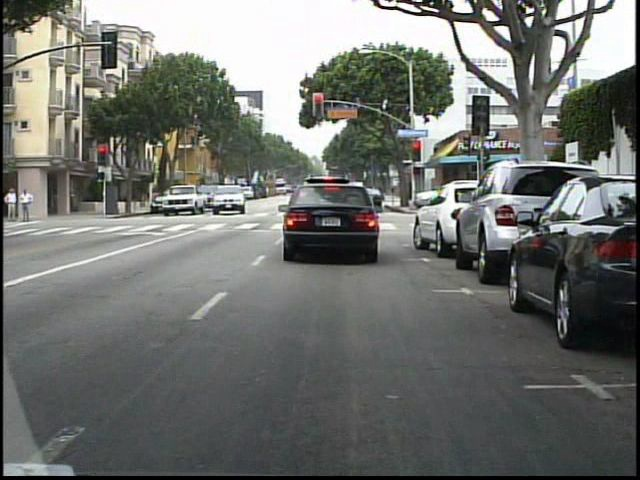person: (19, 185, 37, 224), (3, 185, 20, 225)
